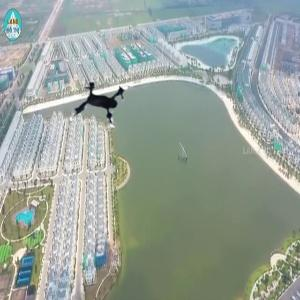drone: (63, 69, 144, 150)
